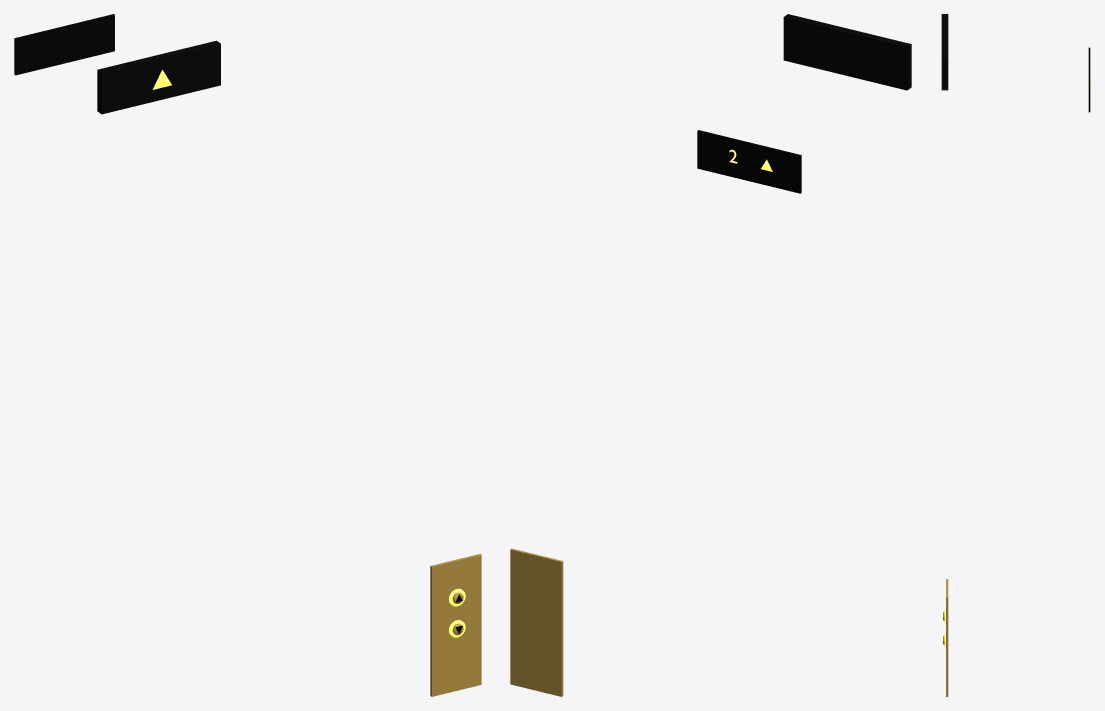
File: hall_brass.glb
The picture shows the model from 3 angles, left to right: view 1: azimuth 30°, elevation 25°; view 2: azimuth 150°, elevation 25°; view 3: azimuth 270°, elevation 25°; orthographic projection. The views are drawn at different scales.
Visible parts, largest first — view 1: Call_Plate, Hall_Lantern, Indicator_Glass; view 2: Call_Plate, Hall_Lantern, Indicator_Glass; view 3: Hall_Lantern, Call_Plate.
Part boxes in pixels (x1=…): Call_Plate: x1=430, y1=554, x2=481, y2=696; Hall_Lantern: x1=97, y1=40, x2=220, y2=114; Indicator_Glass: x1=14, y1=14, x2=114, y2=75; Call_Plate: x1=510, y1=548, x2=563, y2=696; Hall_Lantern: x1=783, y1=14, x2=911, y2=90; Indicator_Glass: x1=697, y1=130, x2=801, y2=193; Hall_Lantern: x1=941, y1=14, x2=948, y2=90; Call_Plate: x1=946, y1=579, x2=948, y2=696.
Bounding box in the file's own units: 0.77 × 1.36 × 0.3434.
